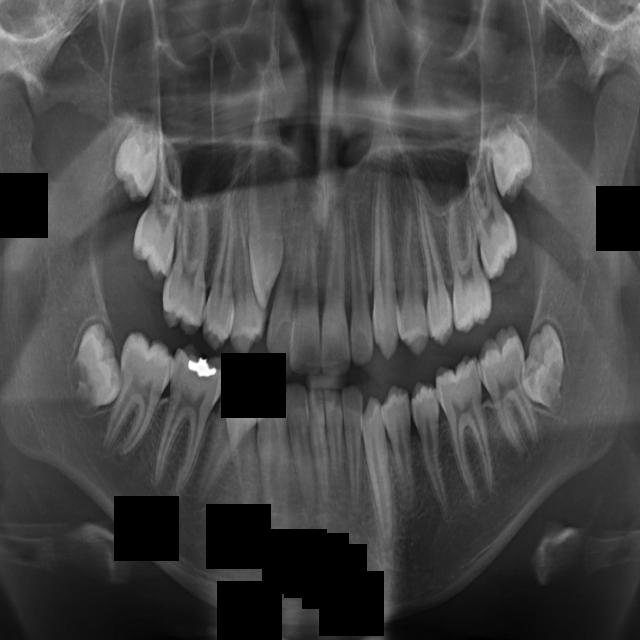3M ESPE Implant: (109, 117, 161, 206)
AGS Medikal Implant: (474, 324, 545, 468)
AMerOss Implant: (432, 355, 504, 507)
Amalgam filling: (127, 140, 190, 282)
Anthogyr Implant: (409, 379, 450, 520)
Bicon Implant: (381, 384, 421, 502)
BioHorizons Implant: (358, 396, 399, 549)
BioLife Implant: (342, 385, 368, 510)
Biomet 3i Implant: (323, 387, 351, 505)
Blue Sky Bio Implant: (307, 388, 332, 503)
Camlog Implant: (284, 380, 318, 517)
Caries: (339, 199, 375, 367)
Composite filling: (252, 376, 296, 533)
Cowellmedi Implant: (229, 426, 262, 514)
Crown: (190, 363, 282, 518)
DENTSPLY Implant: (158, 198, 218, 335)
Dentatus Implant: (149, 340, 231, 500)
Dentis Implant: (100, 330, 177, 463)
Dentium Implant: (65, 320, 122, 416)
Euroteknika Implant: (202, 189, 230, 351)
Filling: (229, 180, 268, 357)
Frontier Implant: (242, 113, 287, 304)
Hiossen Implant: (371, 149, 402, 359)
Implant: (288, 209, 320, 375)
Implant Direct: (279, 272, 279, 273)
Keystone Dental Implant: (321, 205, 351, 379)
MIS Implant: (401, 203, 429, 354)
Mandible: (417, 187, 455, 345)
Maxilla: (445, 195, 494, 334)
Megagen Implant: (462, 140, 525, 282)
Neodent Implant: (487, 118, 538, 203)
Neoss Implant: (519, 320, 581, 420)
